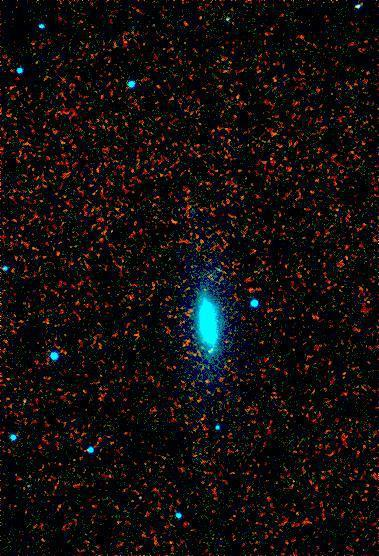star: (193, 331, 223, 361)
